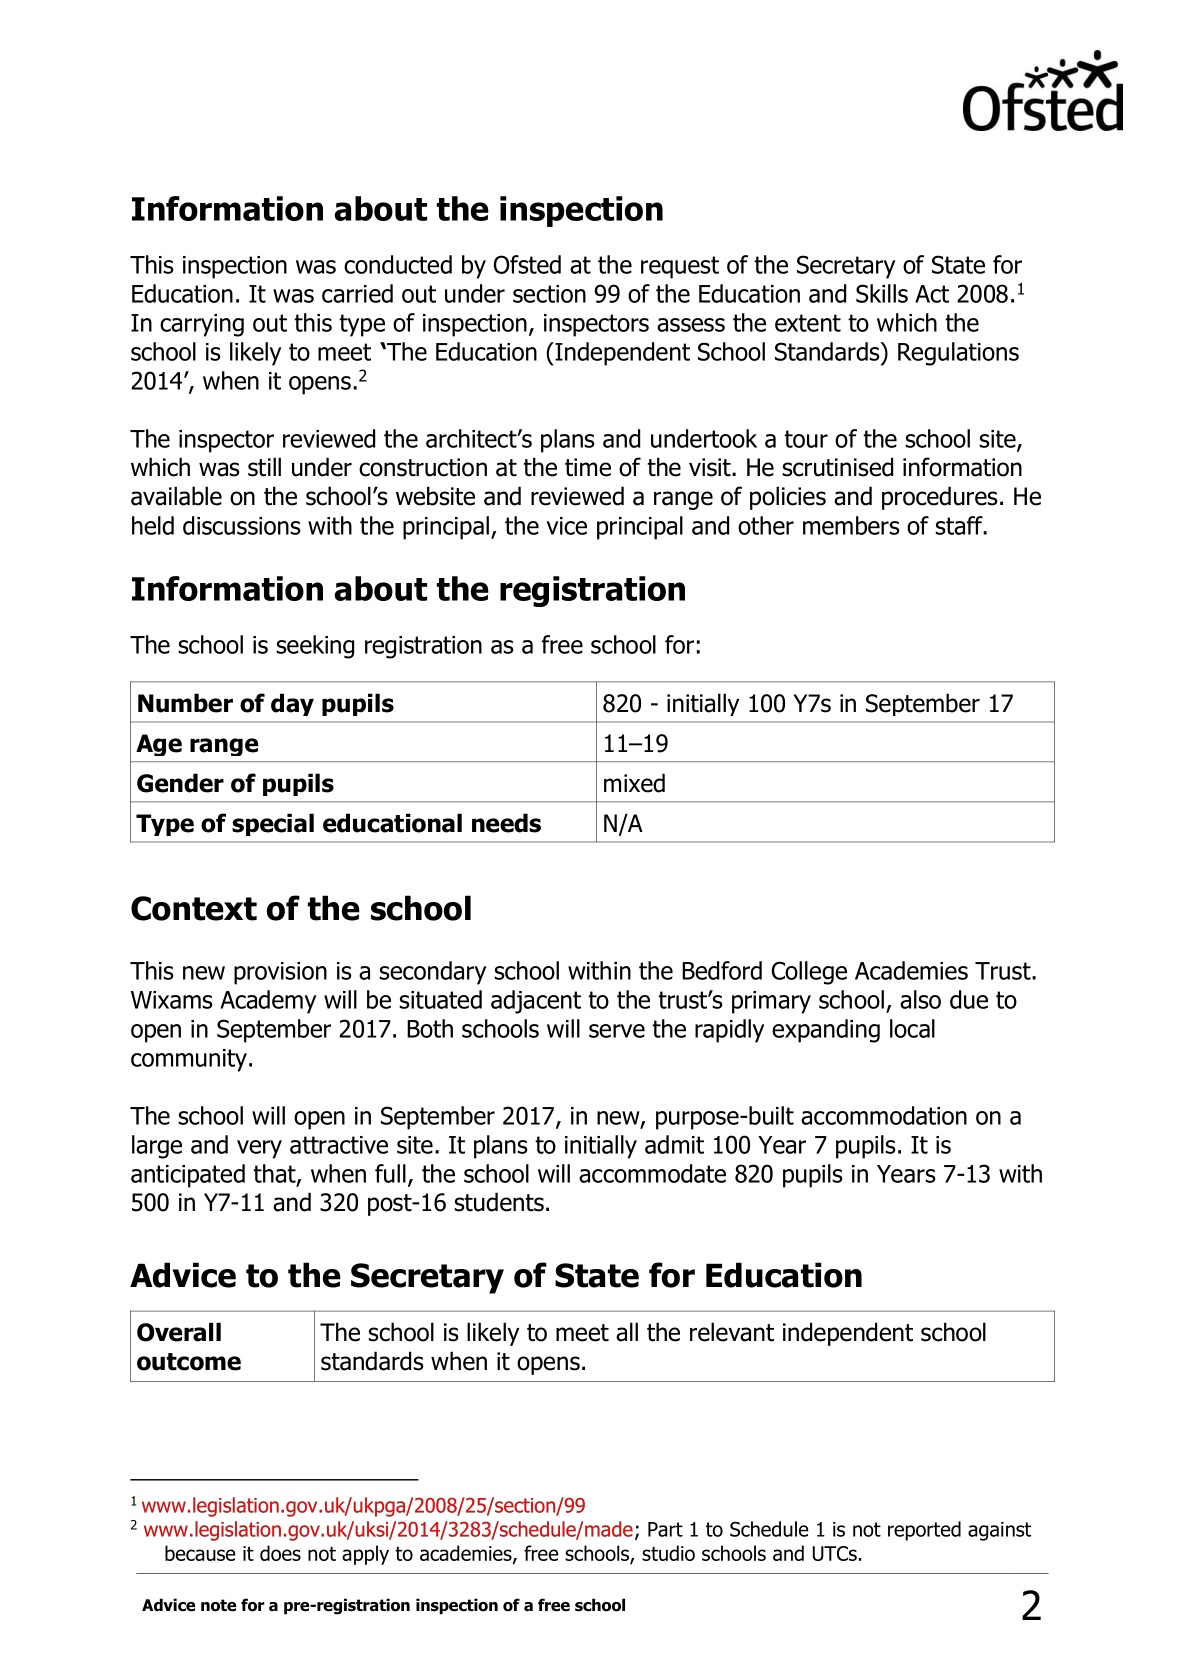full_lined: (128, 680, 1056, 844), (128, 1309, 1056, 1383)
